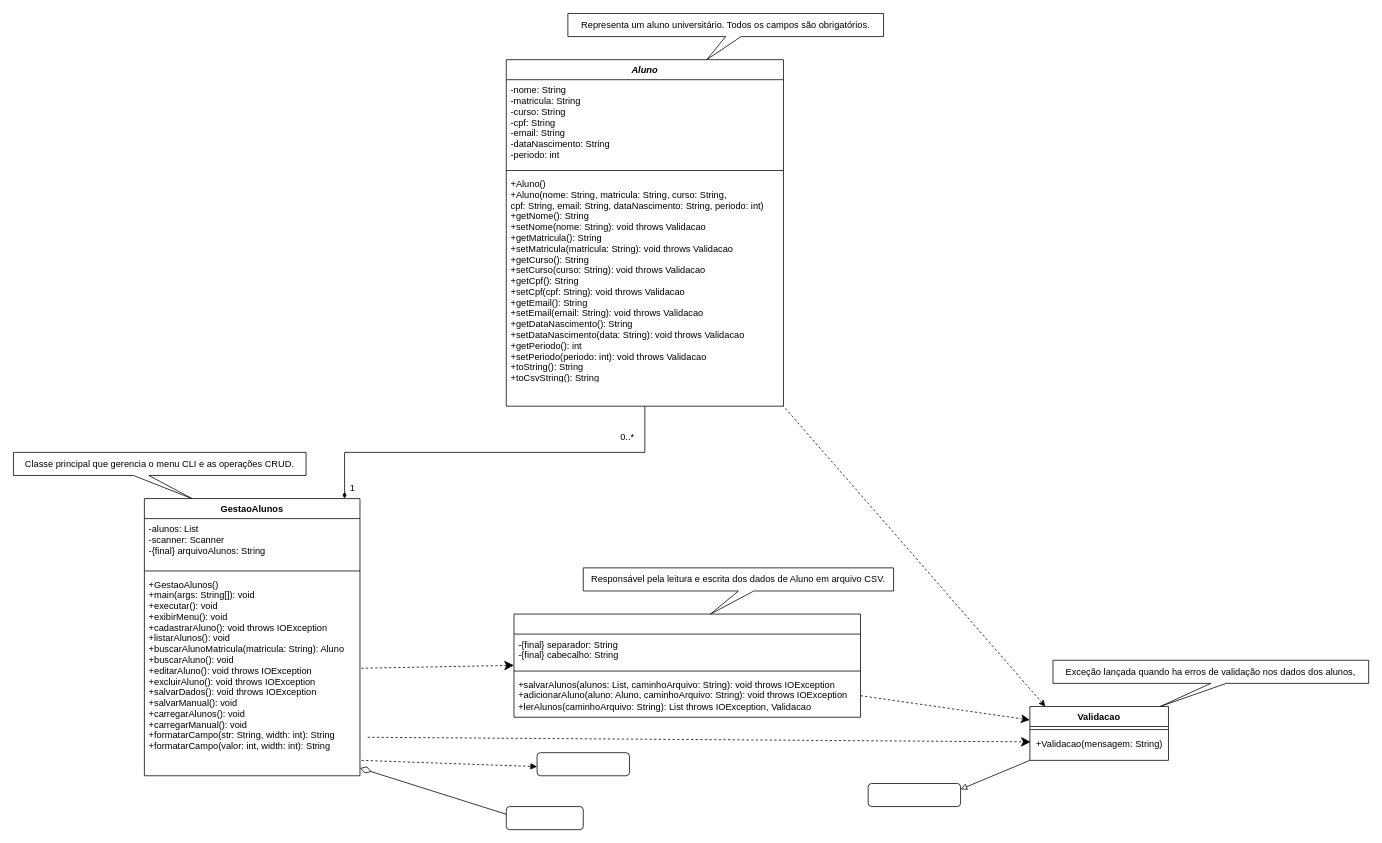
Some shapes in this 1382 by 843 pixel diagram are drawn without their labels. Here are the shapes that lost their labels. From the top down, the box of each, then its label:
(513, 613, 860, 717): AlunoCSV
(536, 752, 629, 776): IOException
(867, 783, 961, 807): Exception
(506, 806, 583, 830): Scanner
